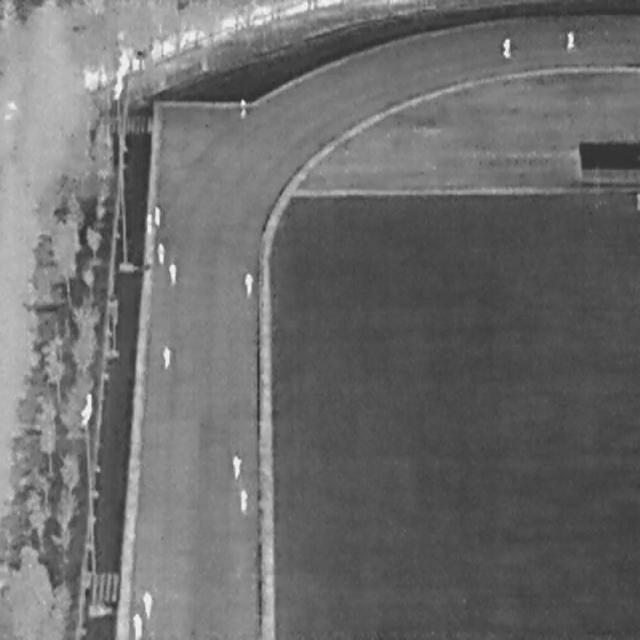Person: (142, 590, 152, 618), (231, 453, 242, 478), (243, 272, 253, 298), (132, 612, 142, 638), (501, 35, 511, 57), (162, 345, 171, 369), (168, 258, 176, 284), (239, 488, 247, 512), (238, 96, 246, 119), (565, 29, 574, 49), (156, 240, 164, 262), (145, 212, 152, 232), (153, 205, 160, 225)
